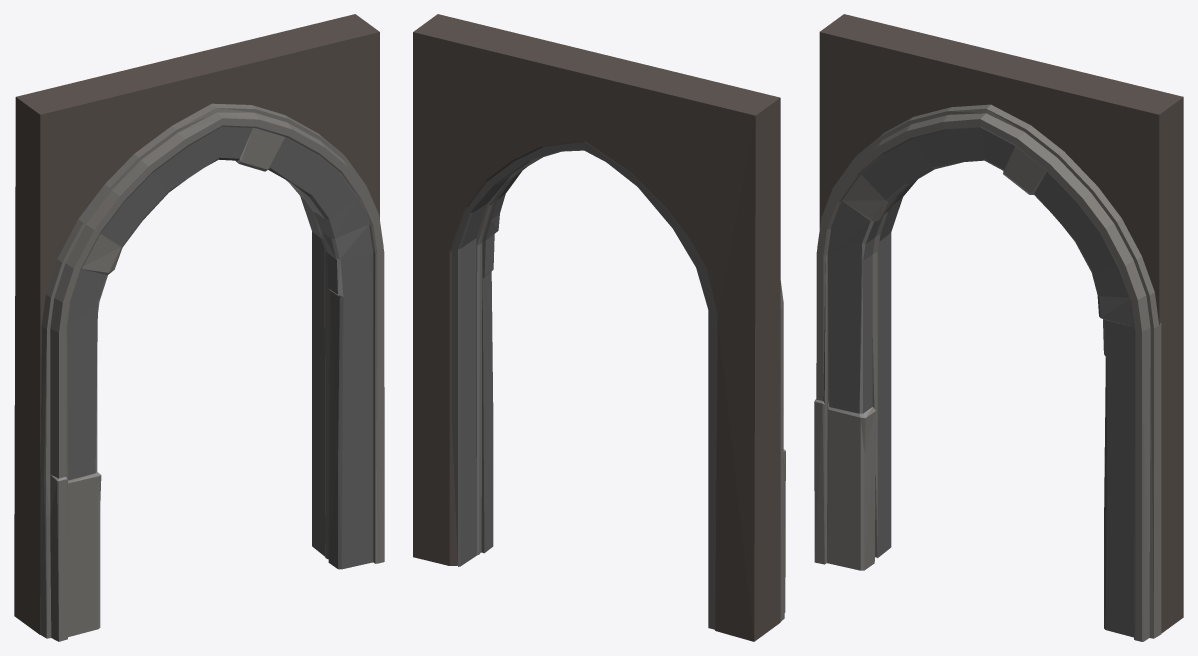
File: MCastle_ArchDoors_05.FBX
3 views of the same model, side by side, from view 1: azimuth 30°, elevation 25°; view 2: azimuth 150°, elevation 25°; view 3: azimuth 330°, elevation 25° (orthographic).
Visible parts, largest first — view 1: MCastle_ArchDoors_05_LOD0; view 2: MCastle_ArchDoors_05_LOD0; view 3: MCastle_ArchDoors_05_LOD0.
Boxes of the visible parts, left/top/right/bottom form: MCastle_ArchDoors_05_LOD0: left=14, top=14, right=384, bottom=641; MCastle_ArchDoors_05_LOD0: left=413, top=14, right=785, bottom=641; MCastle_ArchDoors_05_LOD0: left=814, top=14, right=1183, bottom=641.
Size of what is drawn, in the model's own units: 4 by 5.86 by 0.771.
